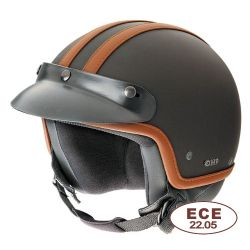helmet: (28, 21, 241, 234)
